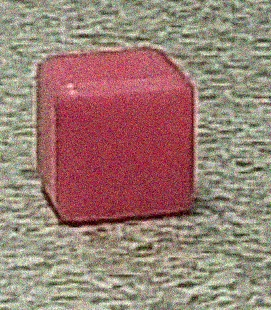red_cube: (24, 36, 233, 234)
